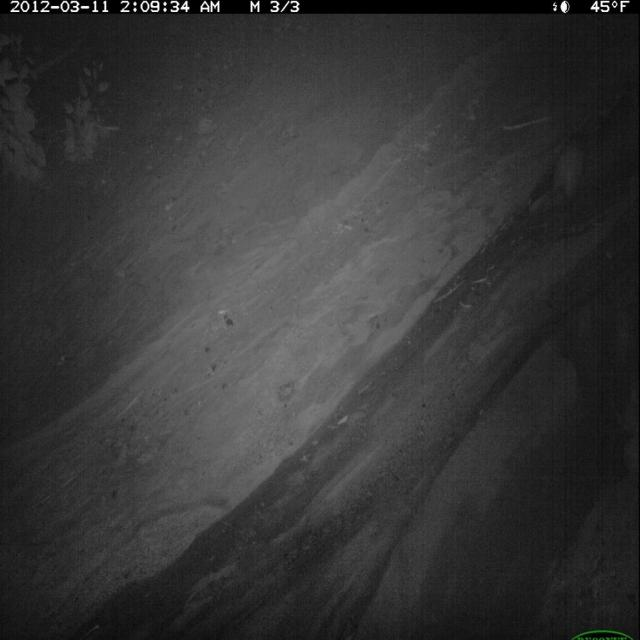opossum: (540, 115, 604, 227)
